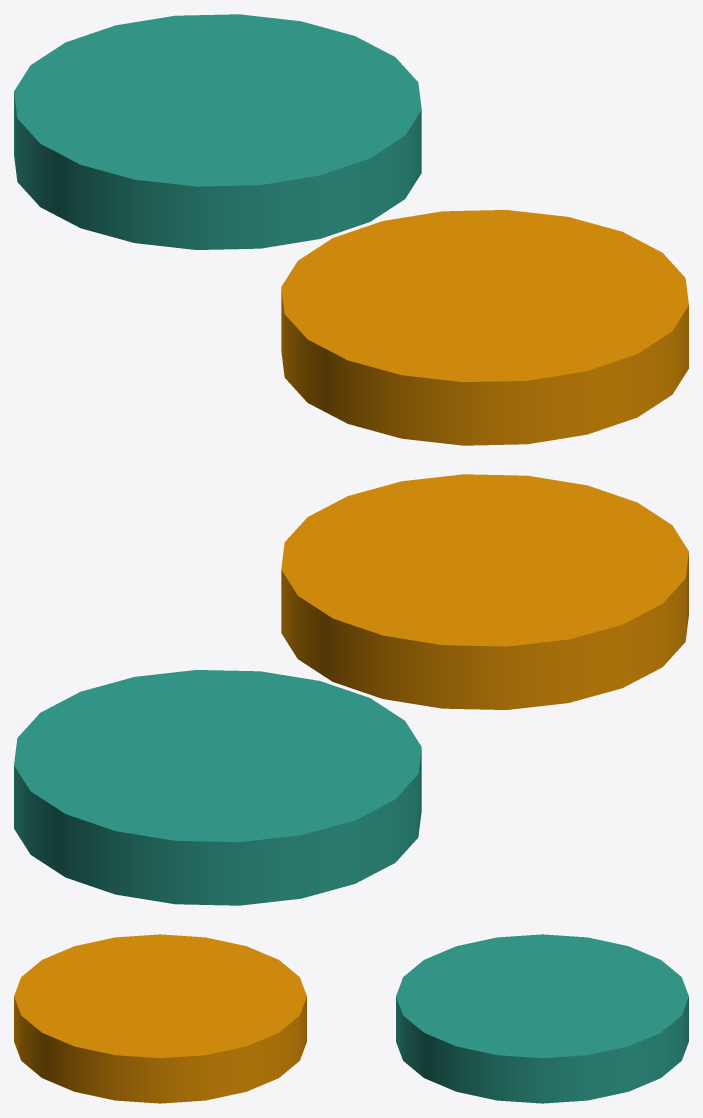
Rendered from orange and aqua drinks -materials only.fbx.
3 views of the same model, one above another, from view 1: azimuth 30°, elevation 25°; view 2: azimuth 150°, elevation 25°; view 3: azimuth 270°, elevation 25° (orthographic). The views are drawn at different scales.
Visible parts, largest first — view 1: pCylinder1, pasted__pCylinder1; view 2: pCylinder1, pasted__pCylinder1; view 3: pCylinder1, pasted__pCylinder1.
Boxes of the visible parts, x1=… form: pCylinder1: x1=281, y1=210, x2=688, y2=445; pasted__pCylinder1: x1=14, y1=14, x2=421, y2=249; pCylinder1: x1=281, y1=474, x2=688, y2=709; pasted__pCylinder1: x1=14, y1=670, x2=421, y2=905; pCylinder1: x1=14, y1=934, x2=306, y2=1103; pasted__pCylinder1: x1=396, y1=934, x2=688, y2=1103.
Size of the model in its own units: 2 by 0.3417 by 4.61.
